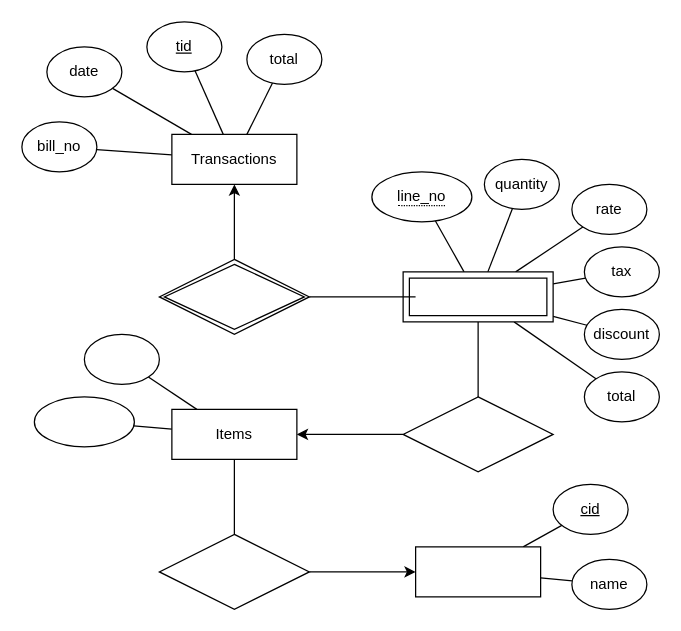
The diagram is 681 pixels wide and 631 high, and some of its shapes have lost their labels. Here are the shapes that lost their labels. From the top down, the centre of each, then its label:
At (233,296): "contain".
At (477,296): "Transaction_Items".
At (121,358): "iid".
At (83,421): "description".
At (477,434): "reference".
At (233,571): "belong_to".
At (477,571): "Categories".
